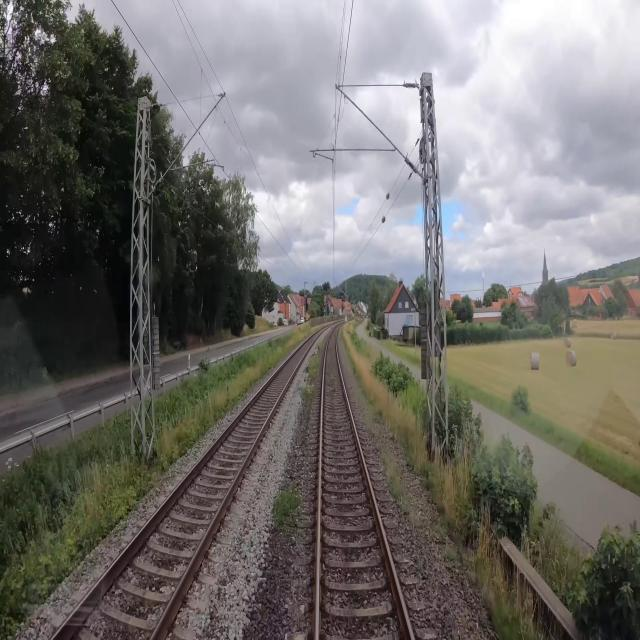Plant: (381, 451, 444, 540), (273, 489, 300, 531), (307, 344, 322, 377), (301, 383, 317, 403), (330, 374, 336, 380)
